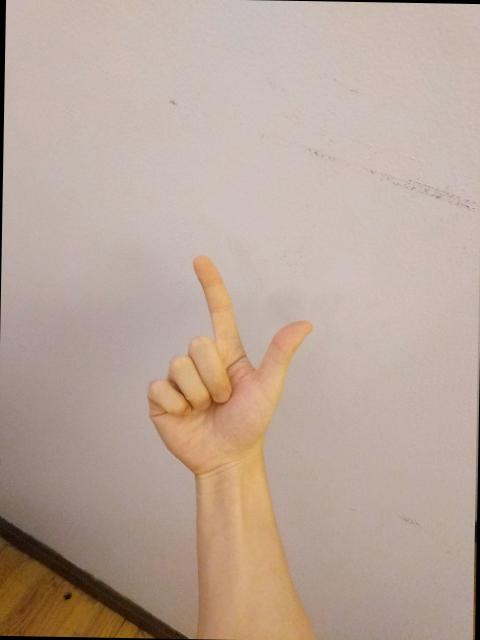L: (142, 248, 320, 484)
